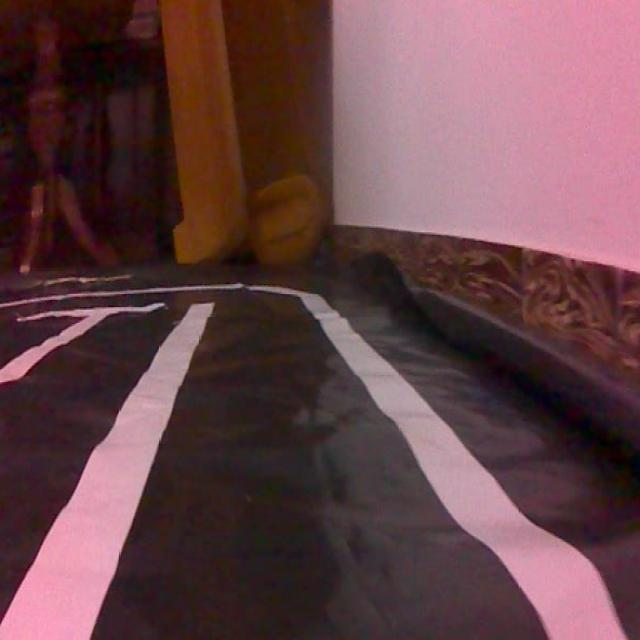LineaCarril: (249, 287, 629, 640), (0, 302, 213, 640), (0, 305, 164, 384)
